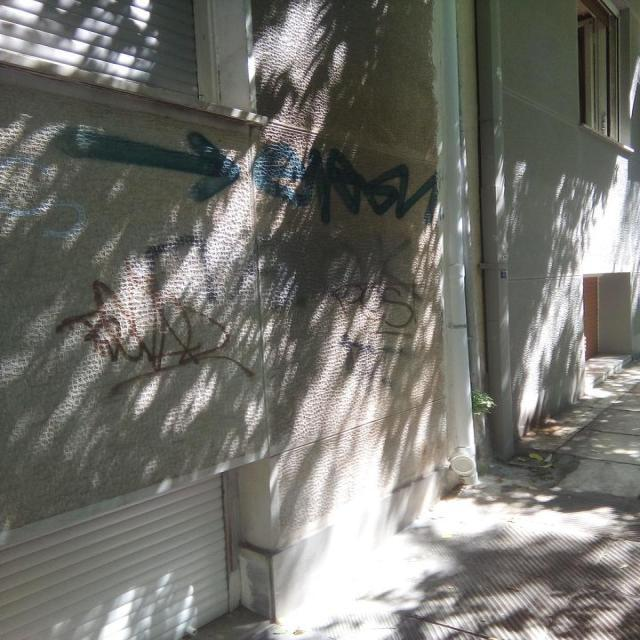nonspitting: (53, 126, 437, 224), (54, 276, 256, 394), (336, 280, 416, 338)
